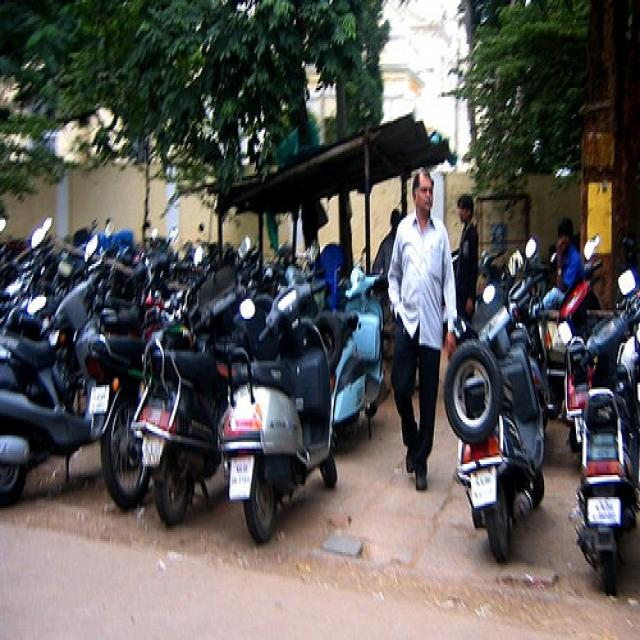motor: (136, 237, 265, 528), (218, 266, 339, 548), (447, 255, 552, 568), (1, 239, 106, 506), (74, 289, 183, 515), (565, 268, 640, 596), (316, 264, 387, 455), (532, 260, 611, 408), (514, 238, 551, 413), (102, 219, 180, 301), (236, 255, 290, 352), (165, 263, 213, 358)
